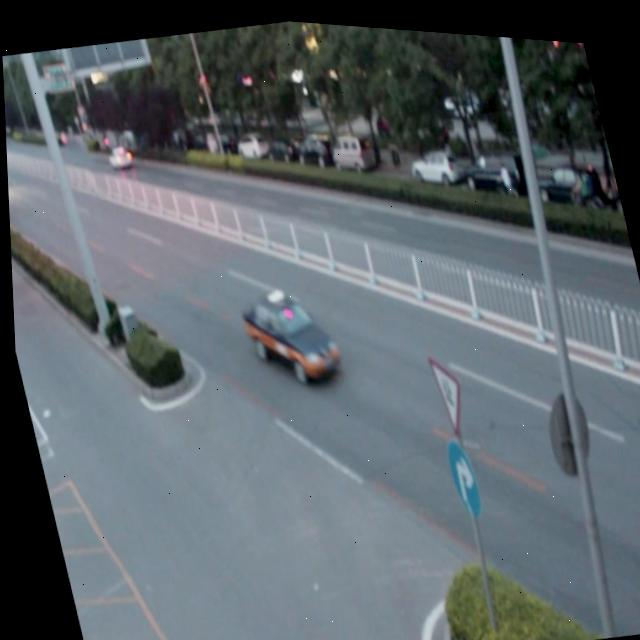car: (234, 276, 343, 387)
